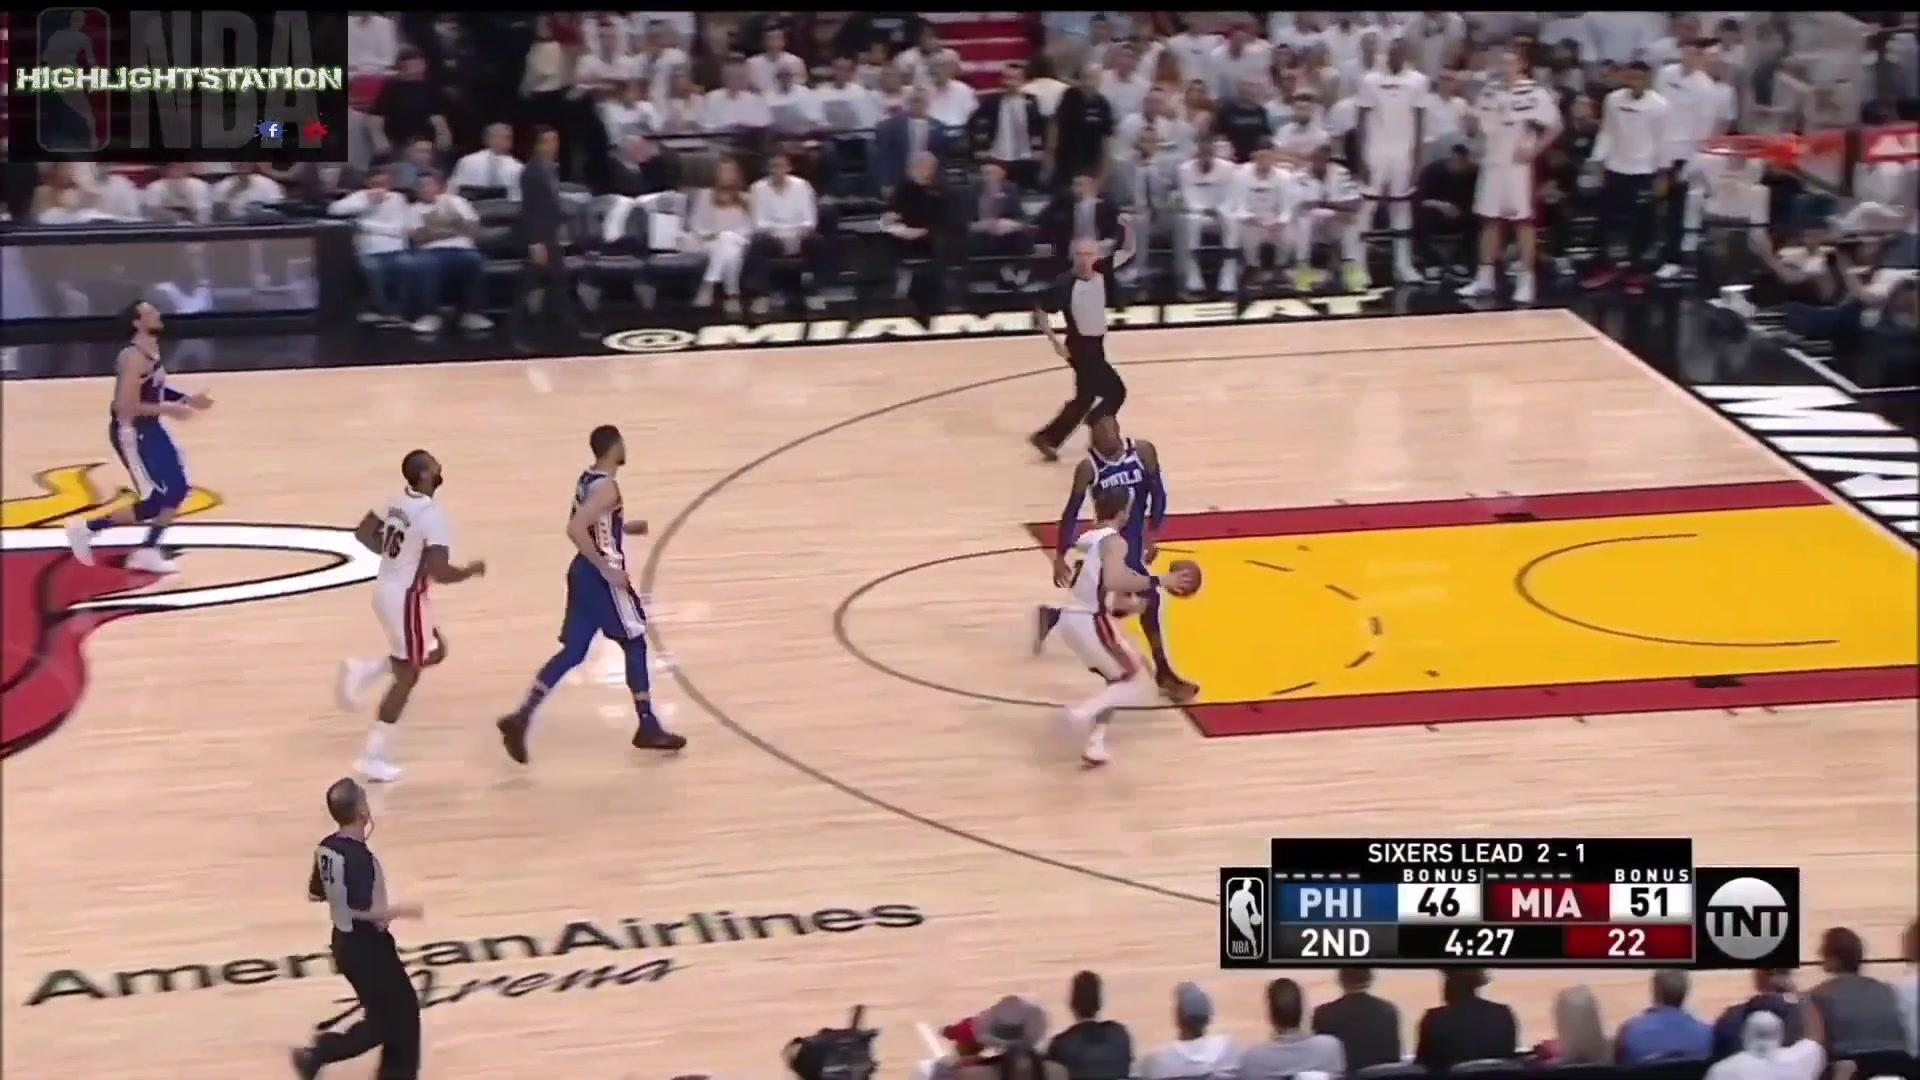no_foul: (1002, 404, 1226, 778)
